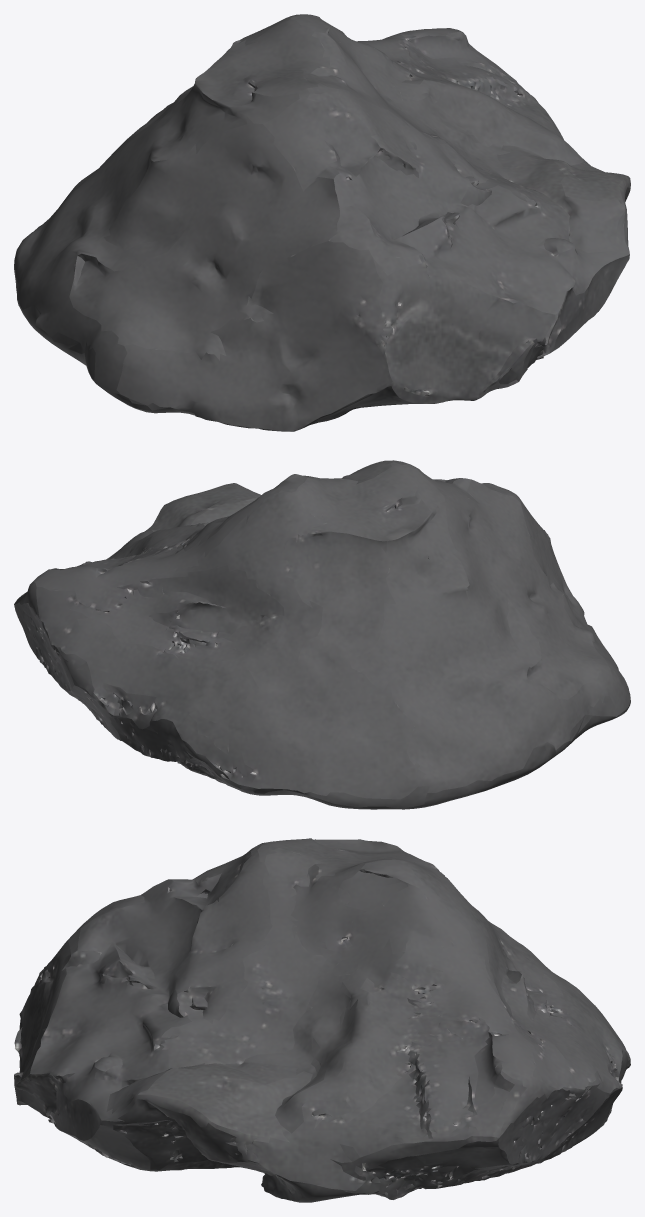
The picture shows the model from 3 angles, top to bottom: view 1: azimuth 30°, elevation 25°; view 2: azimuth 150°, elevation 25°; view 3: azimuth 270°, elevation 25°; orthographic projection. The views are drawn at different scales.
Visible parts, largest first — view 1: world; view 2: world; view 3: world.
Boxes of the visible parts, x1=… form: world: x1=14, y1=14, x2=630, y2=431; world: x1=14, y1=460, x2=630, y2=809; world: x1=14, y1=838, x2=630, y2=1202.
Bounding box in the file's own units: 1.2 × 0.5518 × 1.2.
Materials: 1 (1 with a texture image).
